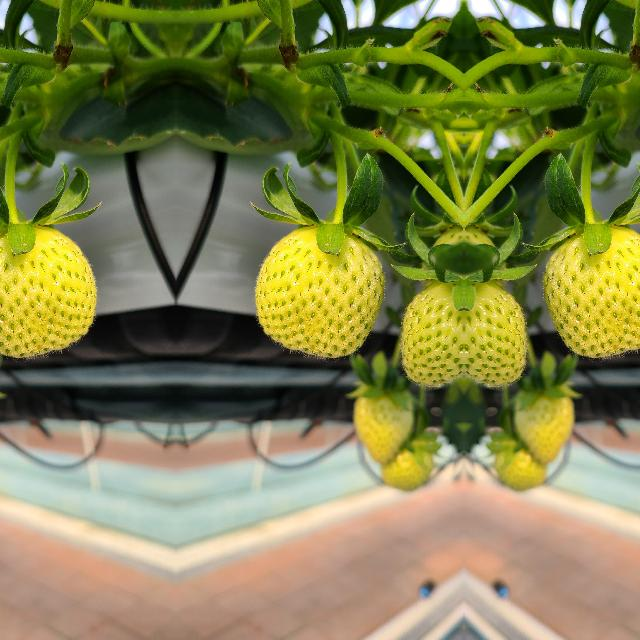Health_25: (254, 226, 384, 356), (542, 225, 640, 356), (0, 225, 96, 356), (402, 276, 462, 386), (464, 276, 524, 386), (349, 380, 417, 464), (509, 380, 577, 464), (378, 432, 442, 493), (484, 432, 548, 493)
